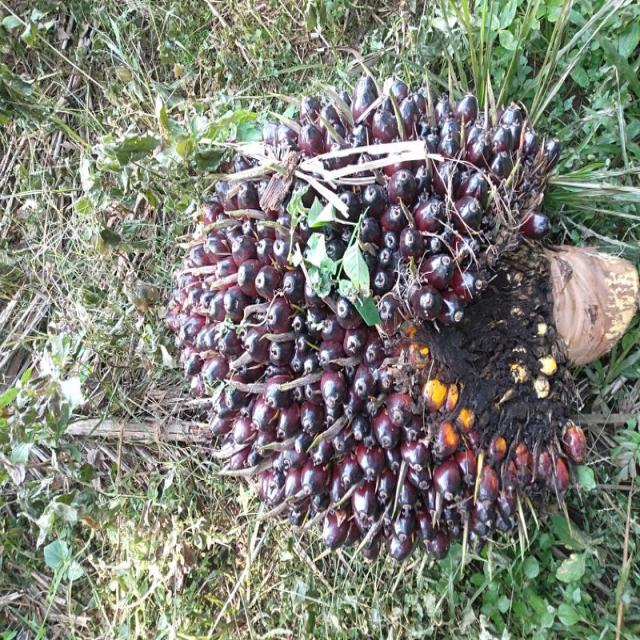fraksi 00: (138, 50, 602, 603)
